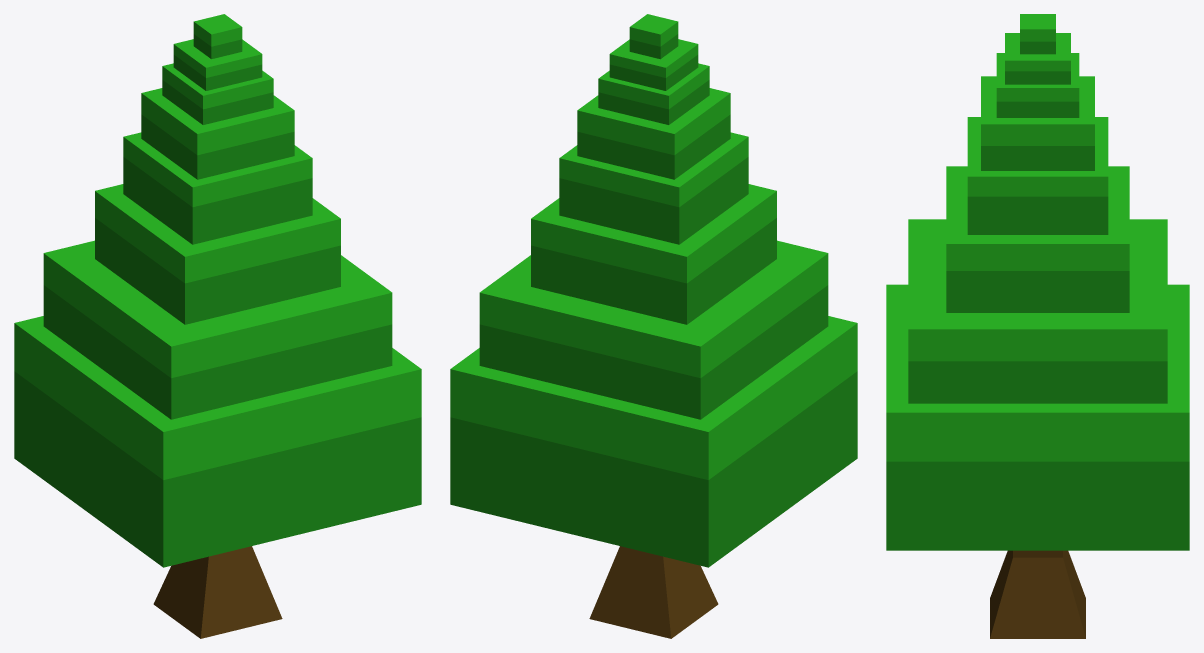
Rendered from evergreen2(small).fbx.
3 renders of one model, left to right at view 1: azimuth 30°, elevation 25°; view 2: azimuth 150°, elevation 25°; view 3: azimuth 270°, elevation 25°, orthographic.
Visible parts, largest first — view 1: evergreen2(small); view 2: evergreen2(small); view 3: evergreen2(small).
Boxes of the visible parts, left/top/right/bottom form: evergreen2(small): left=14, top=14, right=421, bottom=638; evergreen2(small): left=450, top=14, right=857, bottom=638; evergreen2(small): left=886, top=14, right=1189, bottom=638.
Size of the model in its own units: 390 by 848 by 390.
1 material, 1 textured.
